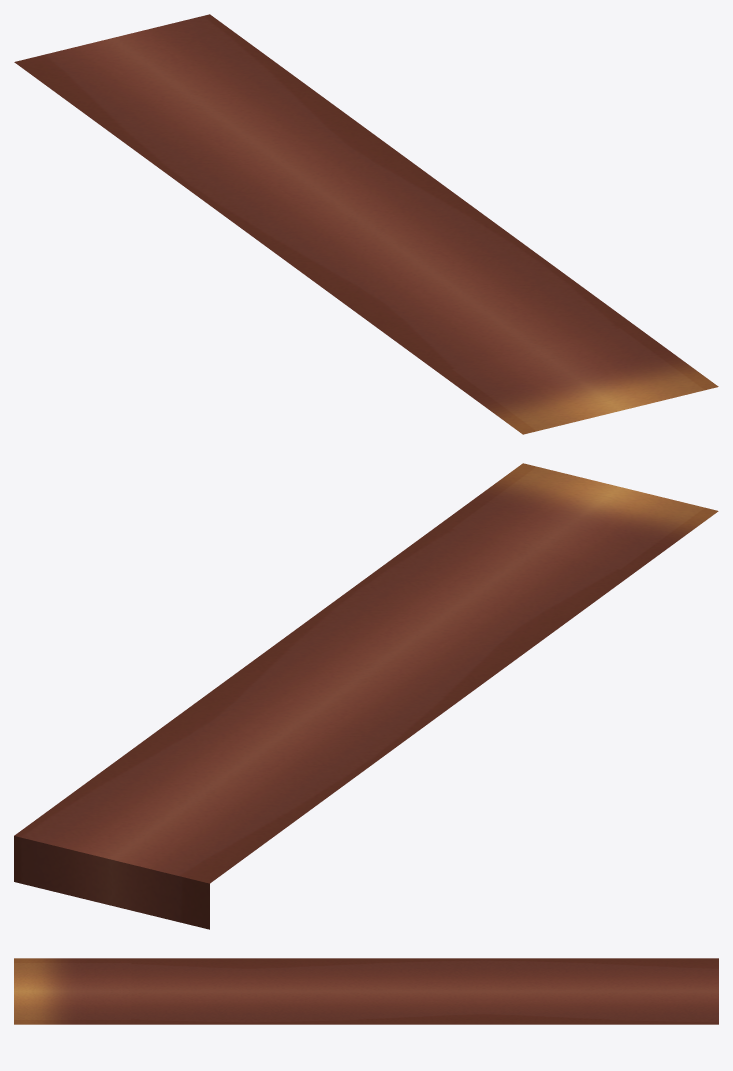
The model's file is 1.100_SanFrancisco_ground_shadow_short_end.glb.
The picture shows the model from 3 angles, top to bottom: view 1: azimuth 30°, elevation 25°; view 2: azimuth 150°, elevation 25°; view 3: azimuth 270°, elevation 25°; orthographic projection. The views are drawn at different scales.
Visible parts, largest first — view 1: 1.100_SanFrancisco_ground_shadow_short_end; view 2: 1.100_SanFrancisco_ground_shadow_short_end; view 3: 1.100_SanFrancisco_ground_shadow_short_end.
Part boxes in pixels (box(x1,y1,x2,y2)): 1.100_SanFrancisco_ground_shadow_short_end: box(14, 14, 718, 434); 1.100_SanFrancisco_ground_shadow_short_end: box(14, 463, 718, 929); 1.100_SanFrancisco_ground_shadow_short_end: box(14, 958, 718, 1024).
Bounding box in the file's own units: 20 × 4.5 × 90.
1 material, 1 textured.
